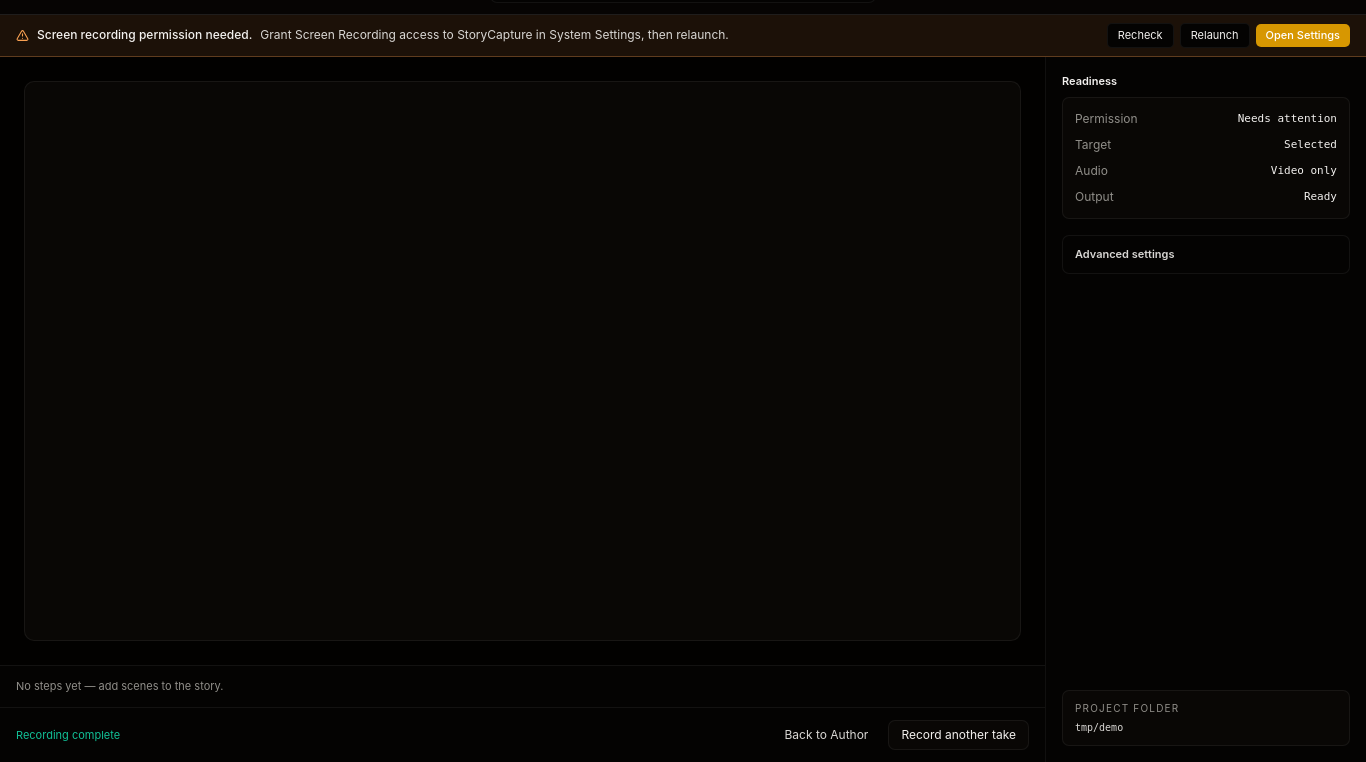
Test: RecordingView take lifecycle › marks the failed ordinal from the returned outcome when step events are missing
(page scrolled)
Click the button with aria-label "New take" at (959, 735), box [888, 720, 1029, 750]
(page scrolled)
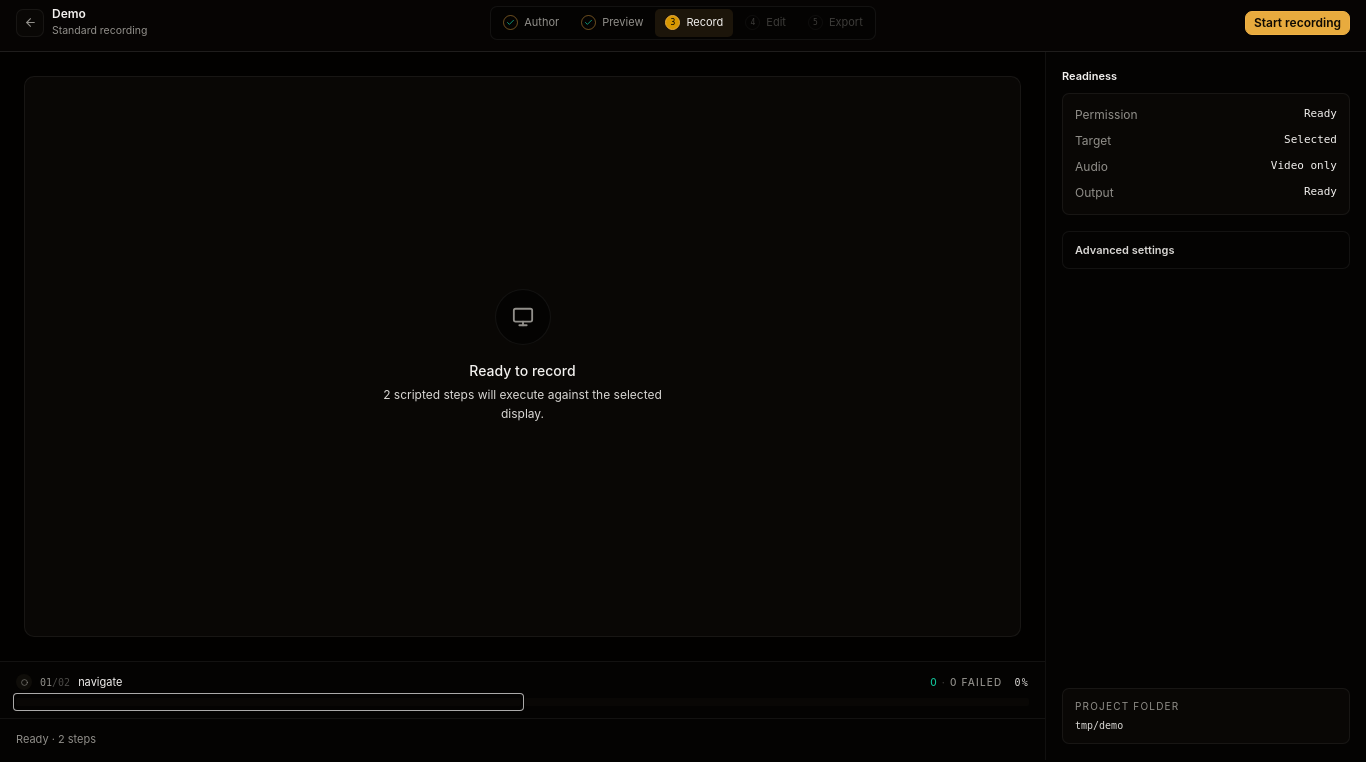
Click the button "Start recording" at (1297, 22), box [1245, 10, 1350, 34]
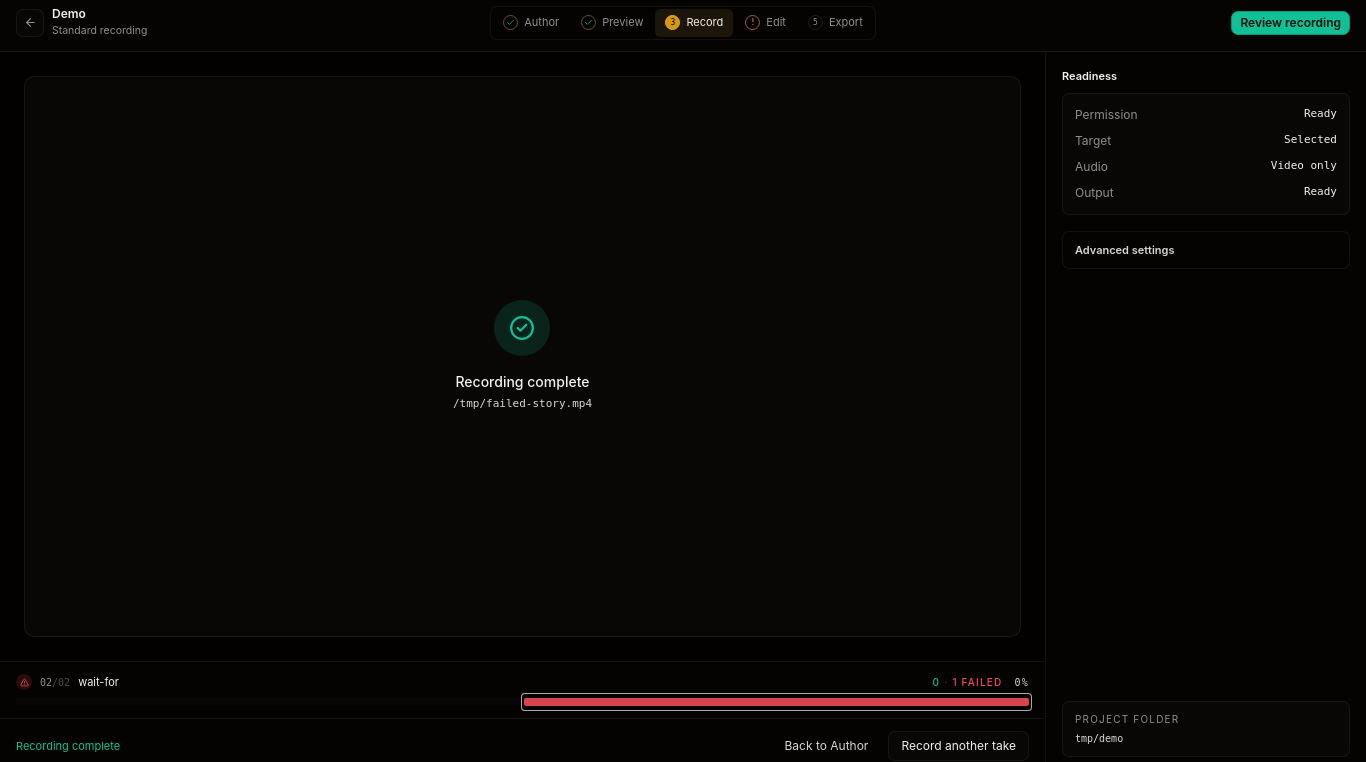
Expected: the text "/tmp/failed-story.mp4" is shown, [453, 396, 592, 413]
